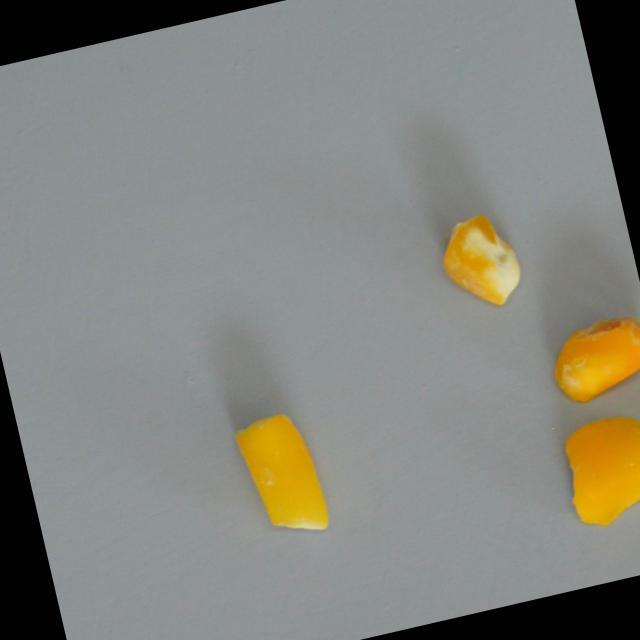dañado: (543, 311, 640, 407)
estandar: (546, 399, 640, 536)
pelicula: (228, 402, 335, 546)
punto_negro: (429, 202, 539, 318)
